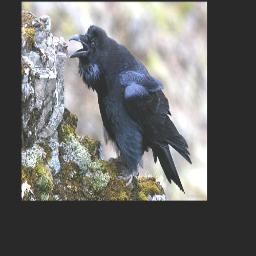Crow: (68, 24, 192, 196)
